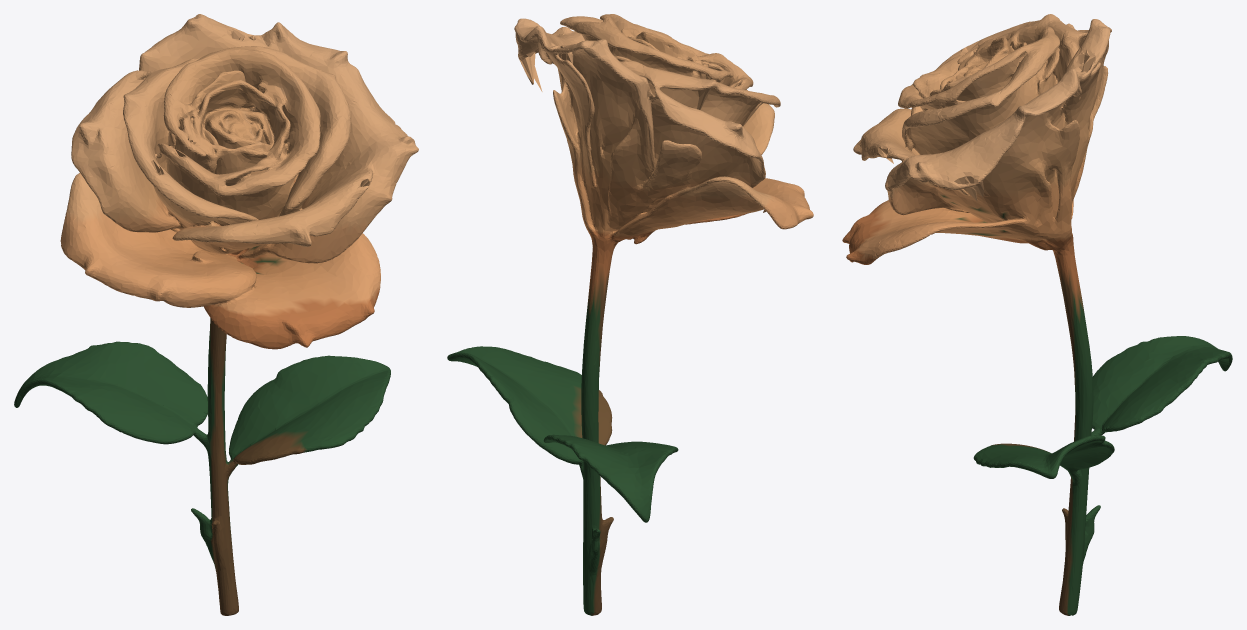
The model's file is rose.glb.
3 renders of one model, left to right at view 1: azimuth 30°, elevation 25°; view 2: azimuth 150°, elevation 25°; view 3: azimuth 270°, elevation 25°, orthographic.
Visible parts, largest first — view 1: peach_rose_v15_color_leaf_stem_pass; view 2: peach_rose_v15_color_leaf_stem_pass; view 3: peach_rose_v15_color_leaf_stem_pass.
Part boxes in pixels (box(x1,y1,x2,y2)): peach_rose_v15_color_leaf_stem_pass: box(14, 14, 418, 615); peach_rose_v15_color_leaf_stem_pass: box(447, 14, 813, 615); peach_rose_v15_color_leaf_stem_pass: box(842, 14, 1232, 615).
Size of the model in its own units: 1.18 by 1.99 by 1.21.
